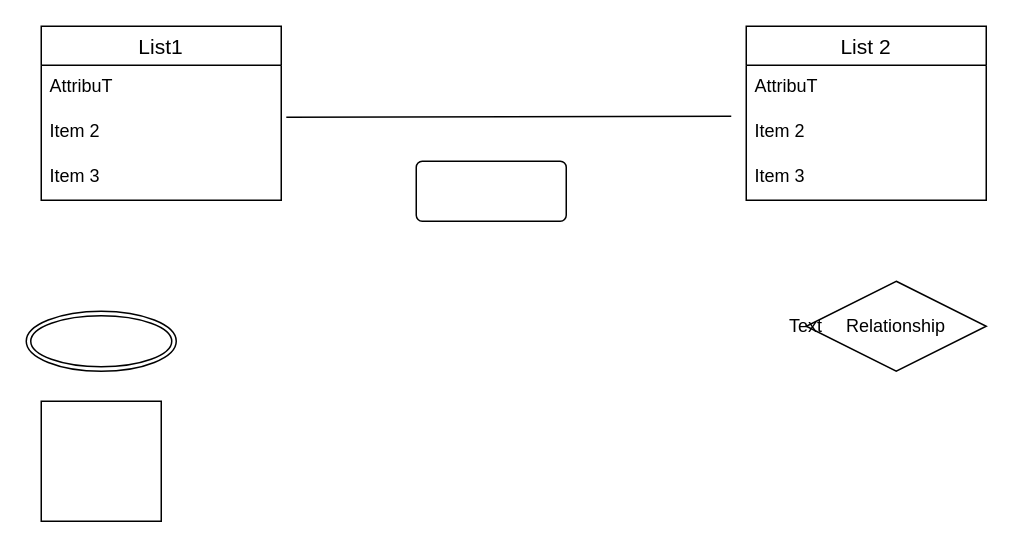
Image size: 1013x548. Some labels were removed from this diagram. The shapes that lost their labels are listed below. From the top down, each one's centre as x and y in pixels, then its label:
the point at 490,190: Entity
the point at 100,340: Arr
